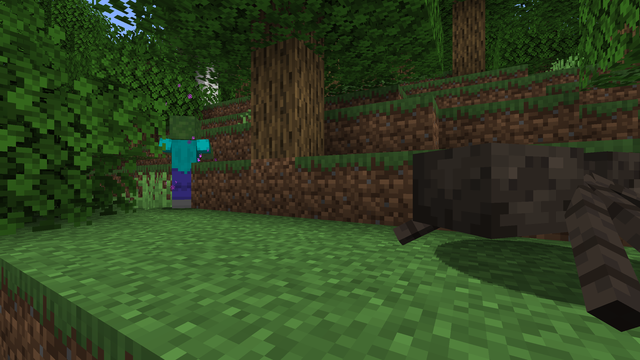araignees: (432, 125, 631, 301)
zombies: (164, 116, 205, 209)
